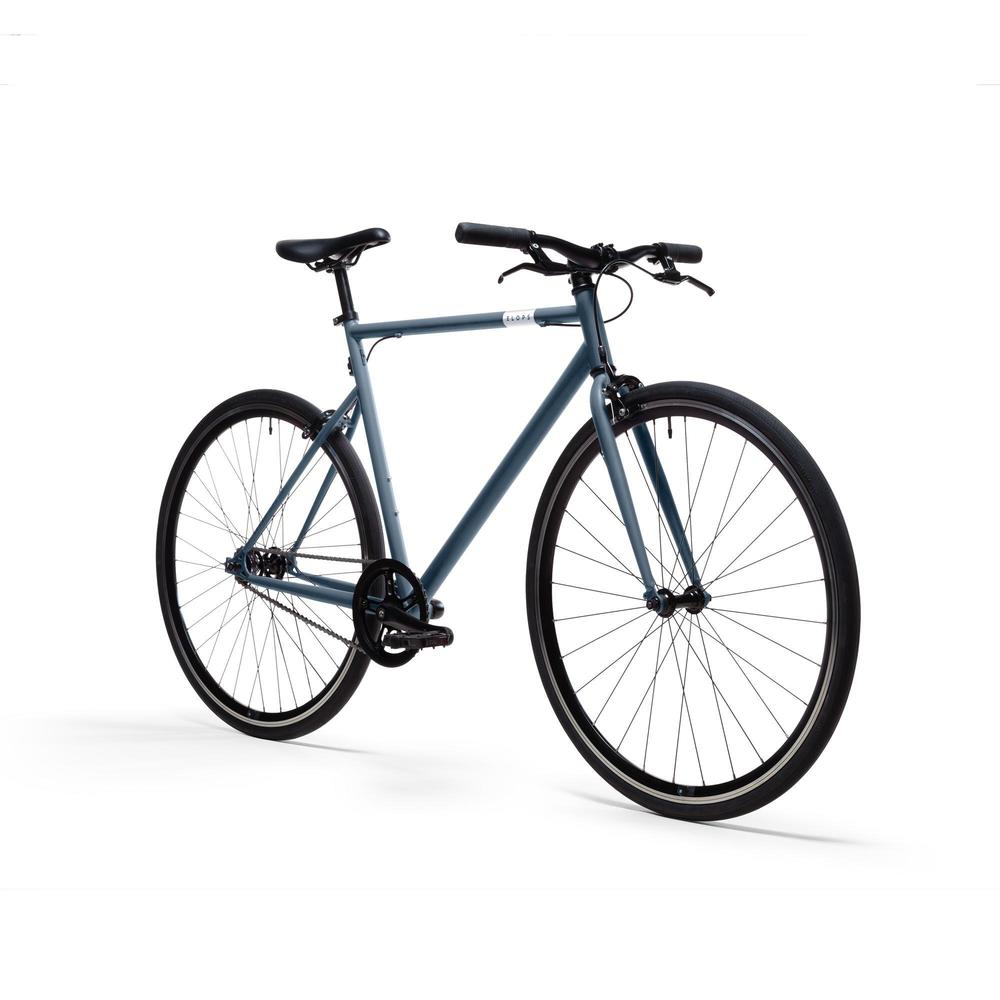UrbanBike: (156, 219, 840, 816)
